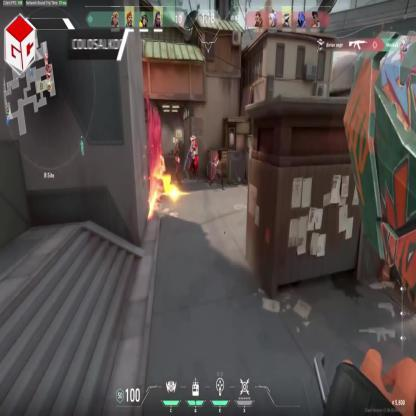enemy: (210, 148, 224, 191), (188, 133, 198, 185), (173, 152, 182, 185), (174, 142, 179, 166)
enemy_head: (191, 136, 196, 145), (215, 154, 219, 162), (176, 142, 178, 147), (176, 154, 178, 158)
